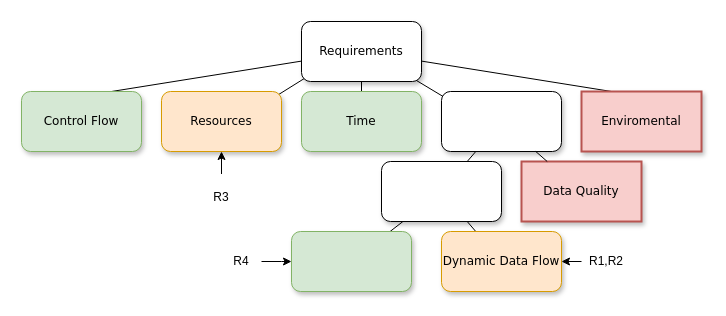
Some shapes in this 726 by 316 pixel diagram are drawn without their labels. Here are the shapes that lost their labels. From the top down, the centre of each, then its label:
the point at 502,122: Data
the point at 442,192: Data Flow
the point at 352,262: Static Data Flow
